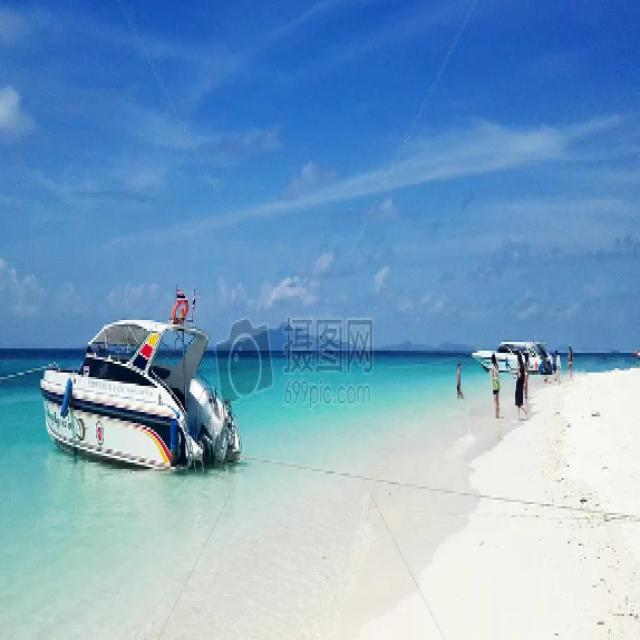houseboat: (38, 307, 244, 477), (469, 326, 561, 380), (626, 335, 640, 361)
